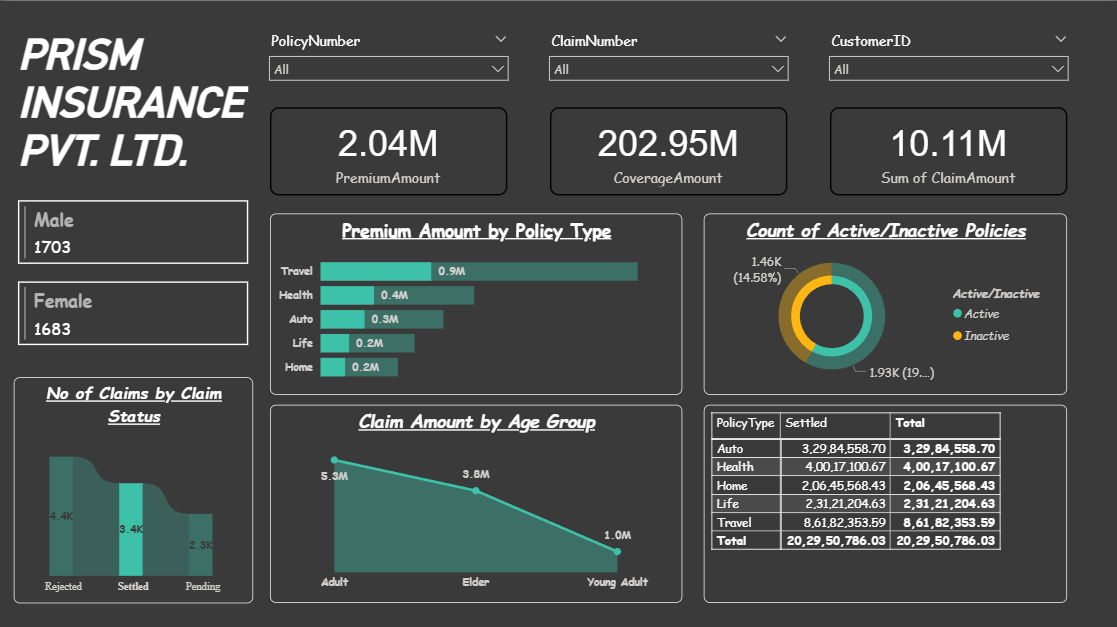

The page's visual inventory and layout, read from the dashboard file:
{"tool":"powerbi","page":{"name":"Page 1","canvas":[1280,720],"ordinal":0},"visuals":[{"type":"slicer","fields":{"Values":["InsuranceData.PolicyNumber"]},"box":[296.5,27.9,294.2,82.6],"z":0},{"type":"slicer","fields":{"Values":["InsuranceData.ClaimNumber"]},"box":[617.4,27.9,294.2,82.6],"z":1},{"type":"slicer","fields":{"Values":["InsuranceData.CustomerID"]},"box":[937.2,27.9,294.2,82.6],"z":2},{"type":"textbox","box":[15.1,27.9,273.3,195.3],"z":3},{"type":"card","fields":{"Values":["Sum(InsuranceData.PremiumAmount)"]},"box":[308.1,122.1,270.9,101.2],"z":4},{"type":"card","fields":{"Values":["Sum(InsuranceData.CoverageAmount)"]},"box":[629.1,122.1,270.9,101.2],"z":5},{"type":"card","fields":{"Values":["Sum(InsuranceData.ClaimAmount)"]},"box":[948.8,122.1,270.9,101.2],"z":6},{"type":"multiRowCard","fields":{"Values":["CountNonNull(InsuranceData.Gender)","InsuranceData.Gender"]},"box":[15.1,223.3,273.3,197.7],"z":7},{"type":"ribbonChart","title":"No of Claims by Claim Status","fields":{"Category":["InsuranceData.ClaimStatus"],"Y":["CountNonNull(InsuranceData.ClaimStatus)"]},"box":[15.1,430.2,273.3,258.1],"z":8},{"type":"barChart","title":"Premium Amount by Policy Type","fields":{"Category":["InsuranceData.PolicyType"],"Y":["Sum(InsuranceData.PremiumAmount)"]},"box":[308.1,243,470.9,207],"z":9},{"type":"lineChart","title":"Claim Amount by Age Group","fields":{"Category":["InsuranceData.Age Group"],"Y":["Sum(InsuranceData.ClaimAmount)"]},"box":[308.1,461.6,470.9,226.7],"z":10},{"type":"donutChart","title":"Count of Active/Inactive Policies","fields":{"Category":["InsuranceData.Active/Inactive"],"Y":["CountNonNull(InsuranceData.Active/Inactive)"]},"box":[804.7,243,415.1,207],"z":11},{"type":"pivotTable","fields":{"Values":["Sum(InsuranceData.CoverageAmount)"],"Rows":["InsuranceData.PolicyType"],"Columns":["InsuranceData.ClaimStatus"]},"box":[804.7,461.6,415.1,226.7],"z":12}]}

Visuals, with their boxes in screenshot pixels (x1, y1, x2, y2), scaled from the page's 1280x720 canvas onto the 1117x627 screenshot:
slicer - InsuranceData.PolicyNumber: (left=259, top=24, right=515, bottom=96)
slicer - InsuranceData.ClaimNumber: (left=539, top=24, right=796, bottom=96)
slicer - InsuranceData.CustomerID: (left=818, top=24, right=1075, bottom=96)
textbox: (left=13, top=24, right=252, bottom=194)
card - Sum(InsuranceData.PremiumAmount): (left=269, top=106, right=505, bottom=194)
card - Sum(InsuranceData.CoverageAmount): (left=549, top=106, right=785, bottom=194)
card - Sum(InsuranceData.ClaimAmount): (left=828, top=106, right=1064, bottom=194)
multiRowCard - CountNonNull(InsuranceData.Gender) x InsuranceData.Gender: (left=13, top=194, right=252, bottom=367)
"No of Claims by Claim Status" ribbonChart: (left=13, top=375, right=252, bottom=599)
"Premium Amount by Policy Type" barChart: (left=269, top=212, right=680, bottom=392)
"Claim Amount by Age Group" lineChart: (left=269, top=402, right=680, bottom=599)
"Count of Active/Inactive Policies" donutChart: (left=702, top=212, right=1064, bottom=392)
pivotTable - Sum(InsuranceData.CoverageAmount) x InsuranceData.PolicyType: (left=702, top=402, right=1064, bottom=599)
